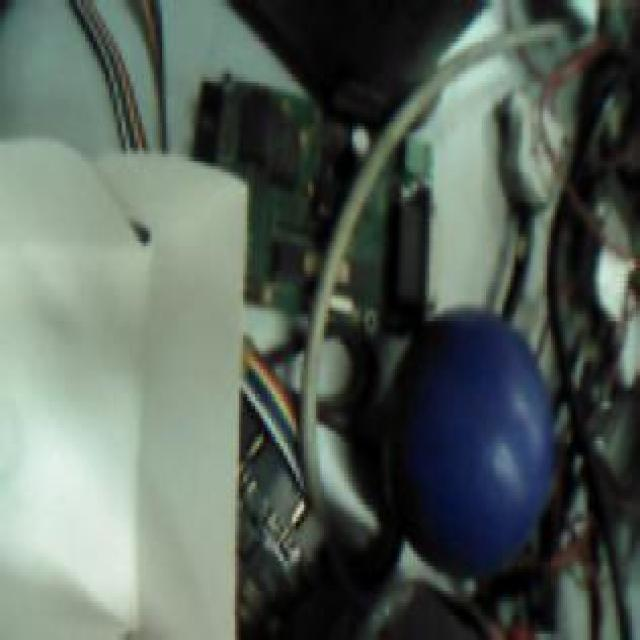BallPurple: (385, 308, 554, 574)
